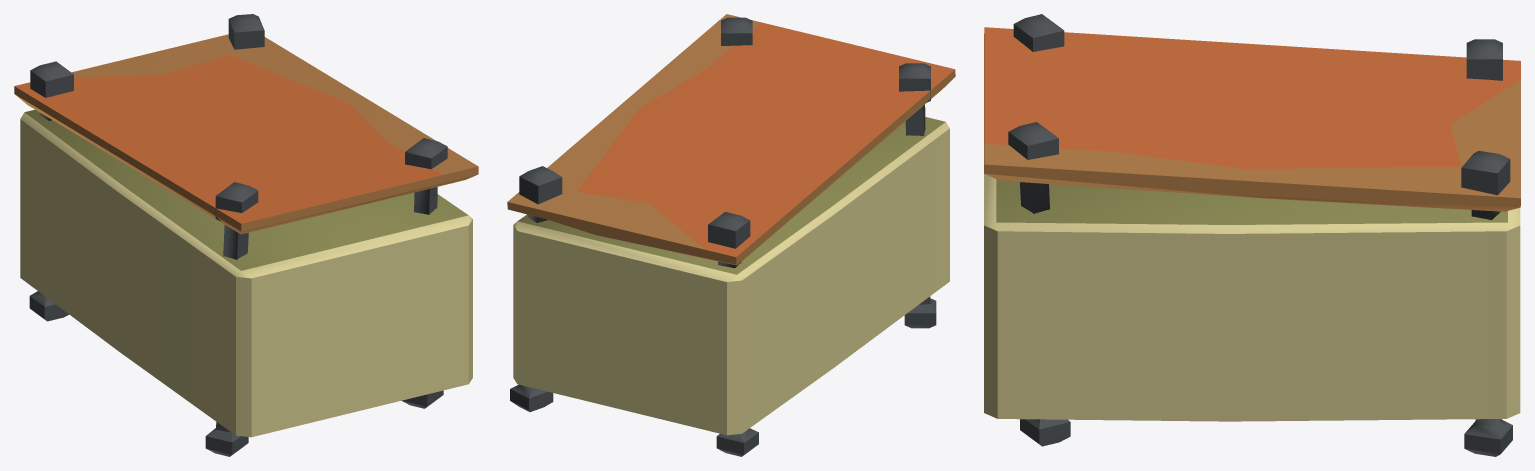
Rendered from Mesa.FBX.
3 views of the same model, side by side, from view 1: azimuth 30°, elevation 25°; view 2: azimuth 150°, elevation 25°; view 3: azimuth 270°, elevation 25° (orthographic). The views are drawn at different scales.
Visible parts, largest first — view 1: Mesa; view 2: Mesa; view 3: Mesa.
Part boxes in pixels (x1,y1,x2,y2): Mesa: [14, 14, 478, 456]; Mesa: [507, 14, 955, 456]; Mesa: [984, 14, 1520, 456].
Bounding box in the file's own units: 199 × 312 × 200.
1 material, 1 textured.
